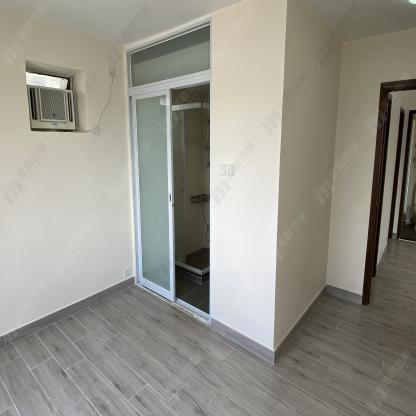AC: (27, 84, 76, 130)
